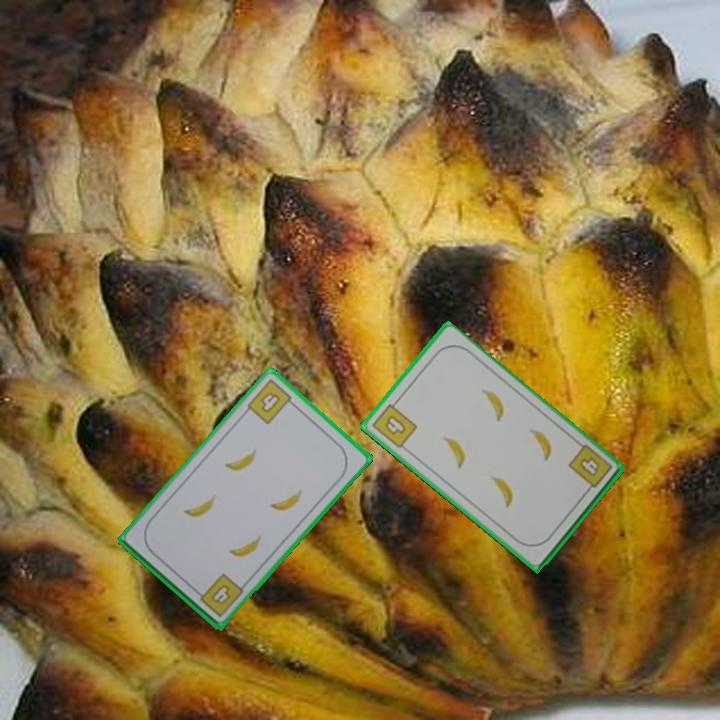4b: (243, 375, 299, 427), (368, 396, 420, 451), (564, 441, 615, 496), (192, 569, 246, 620)
